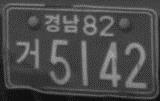1: (76, 40, 92, 85)
2: (124, 41, 147, 89), (99, 14, 114, 37)
4: (98, 41, 122, 86)
5: (48, 39, 72, 85)
8: (83, 14, 97, 35)
거: (15, 38, 41, 69)
경남_O: (44, 13, 79, 33)
